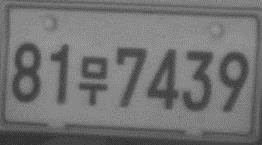1: (48, 43, 69, 106)
3: (181, 49, 212, 110)
4: (146, 47, 179, 109)
7: (115, 46, 147, 108)
8: (11, 42, 41, 104)
9: (218, 49, 249, 114)
무: (77, 56, 109, 107)
